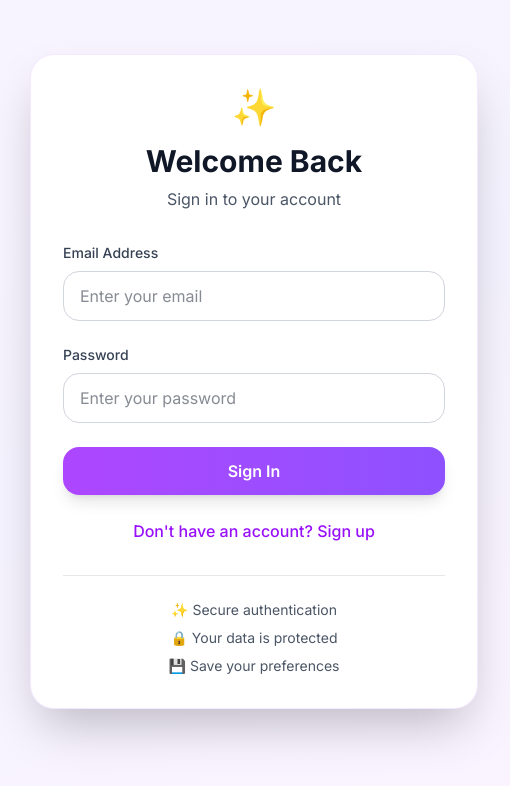
Test: LoginForm › displays error message when login fails
Type "test@example.com" into the field labelled "Email Address" at (254, 296), box [63,270,445,320]
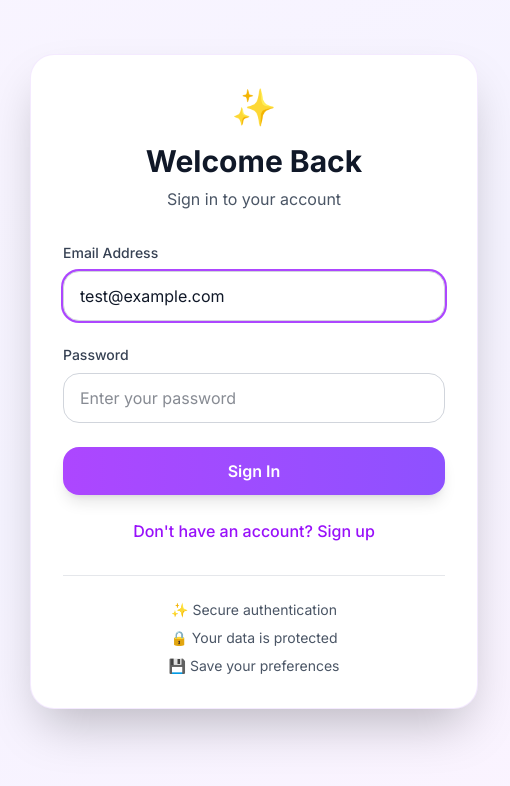
Type "wrongpassword" into the password field labelled "Password" at (254, 398), box [63,372,445,422]
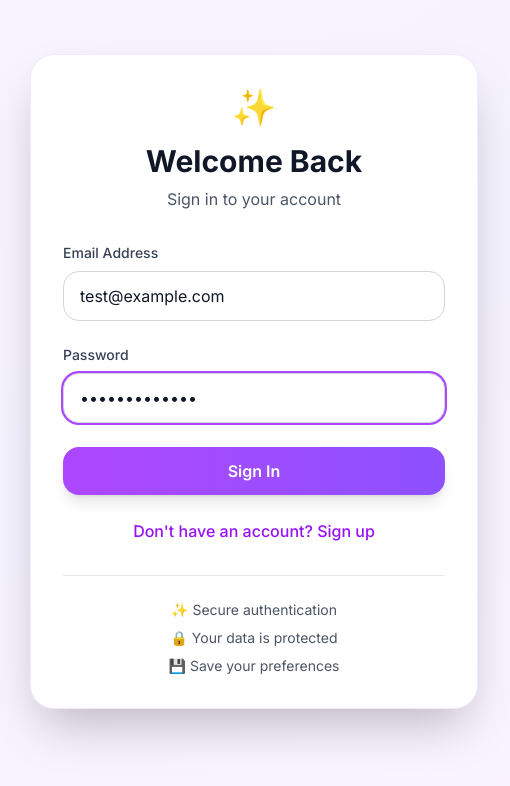
Click the button "Sign In" at (254, 470), box [63,446,445,494]
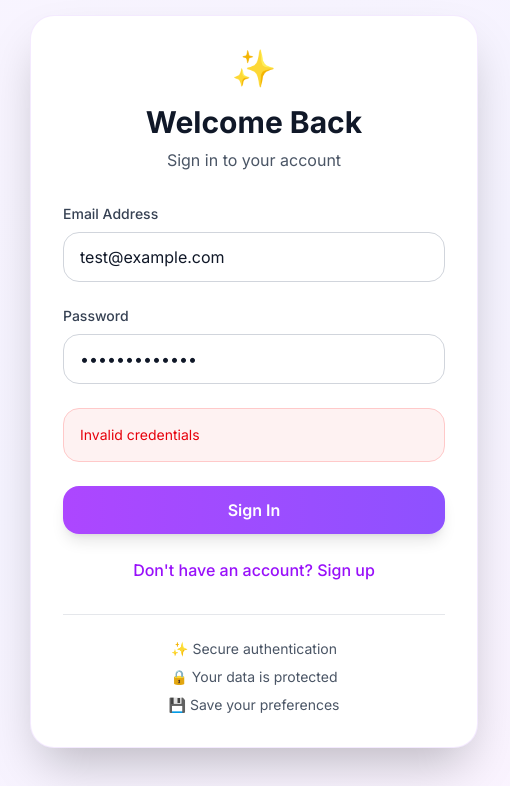
Result: the text "Invalid credentials" is shown at [80,426,200,442]
